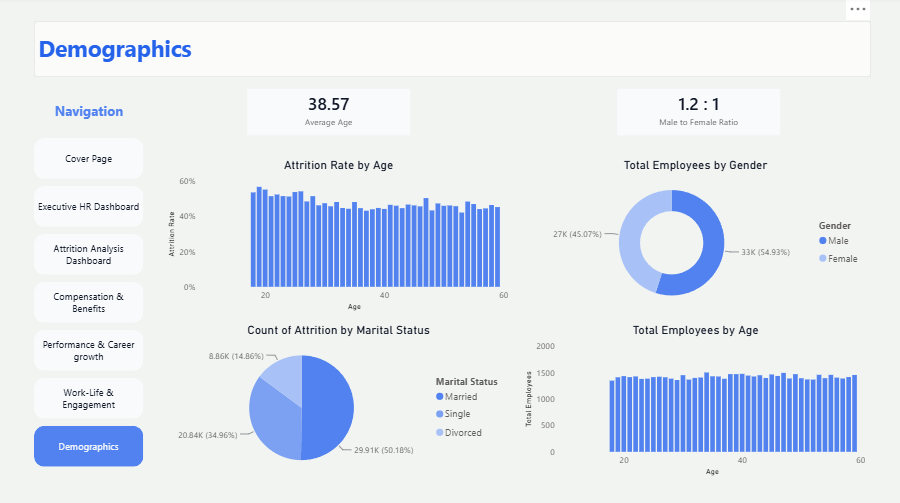

Layout of this report page (visuals, bound fields, positions):
{"tool":"powerbi","page":{"name":"Demographics","canvas":[1280,720],"ordinal":6},"visuals":[{"type":"textbox","box":[50.9,33.4,1186.6,79.5],"z":0},{"type":"cardVisual","fields":{"Data":["Avg(HR-Employee.Age)"]},"box":[346.7,126.7,243.3,76.7],"z":1000},{"type":"cardVisual","fields":{"Data":["HR-Employee.M_F Ratio Text"]},"box":[871.7,126.7,243.3,76.7],"z":2000},{"type":"pageNavigator","box":[51.7,200,155,466.7],"z":3000},{"type":"donutChart","fields":{"Category":["HR-Employee.Gender"],"Y":["HR-Employee.Total Employees"]},"box":[736.7,224.4,501.5,229.8],"z":4000},{"type":"lineStackedColumnComboChart","fields":{"Category":["HR-Employee.Age"],"Y":["HR-Employee.Attrition Rate"]},"box":[231.1,224.4,501.5,229.8],"z":5000},{"type":"clusteredColumnChart","fields":{"Category":["HR-Employee.Age"],"Y":["HR-Employee.Total Employees"]},"box":[736.7,458.2,501.5,229.8],"z":6000},{"type":"pieChart","fields":{"Category":["HR-Employee.Marital Status"],"Y":["CountNonNull(HR-Employee.Attrition)"]},"box":[231.1,458.2,501.5,229.8],"z":7000},{"type":"textbox","box":[58.3,140,141.7,43.3],"z":8000}]}

Visuals, with their boxes in screenshot pixels (x1, y1, x2, y2), scaled from the page's 1280x720 canvas onto the 900x503 screenshot:
textbox: bbox(36, 23, 870, 79)
cardVisual - Avg(HR-Employee.Age): bbox(244, 89, 415, 142)
cardVisual - HR-Employee.M_F Ratio Text: bbox(613, 89, 784, 142)
pageNavigator: bbox(36, 140, 145, 466)
donutChart - HR-Employee.Gender x HR-Employee.Total Employees: bbox(518, 157, 871, 317)
lineStackedColumnComboChart - HR-Employee.Age x HR-Employee.Attrition Rate: bbox(162, 157, 515, 317)
clusteredColumnChart - HR-Employee.Age x HR-Employee.Total Employees: bbox(518, 320, 871, 481)
pieChart - HR-Employee.Marital Status x CountNonNull(HR-Employee.Attrition): bbox(162, 320, 515, 481)
textbox: bbox(41, 98, 141, 128)
